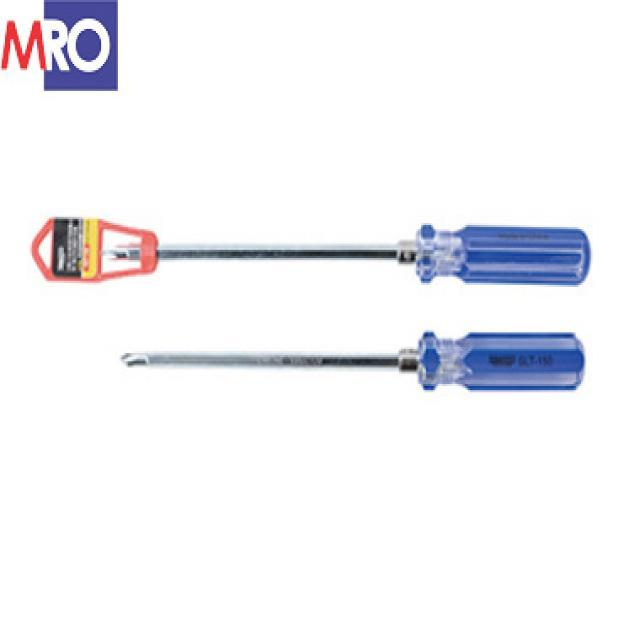screwdriver: (97, 328, 590, 396), (95, 220, 596, 286)
